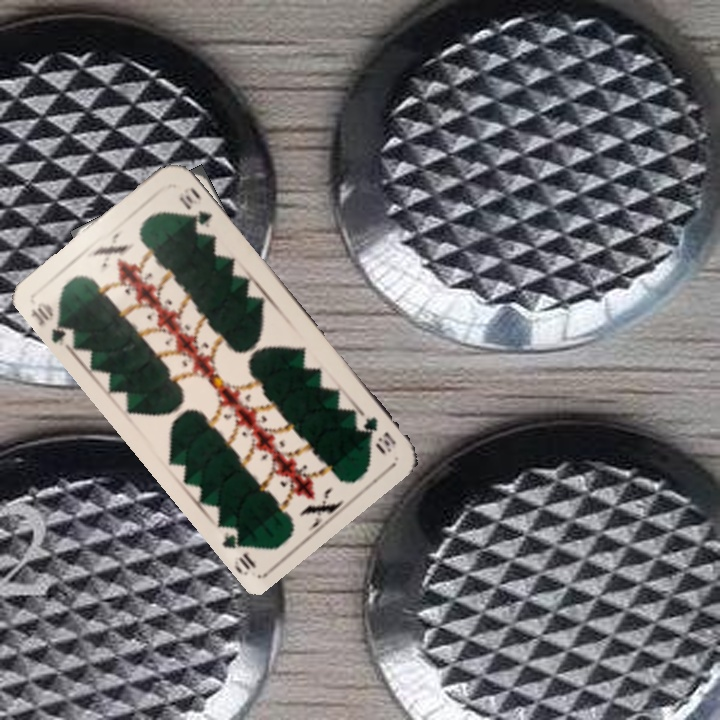G10: (27, 298, 78, 349), (358, 412, 399, 456)
